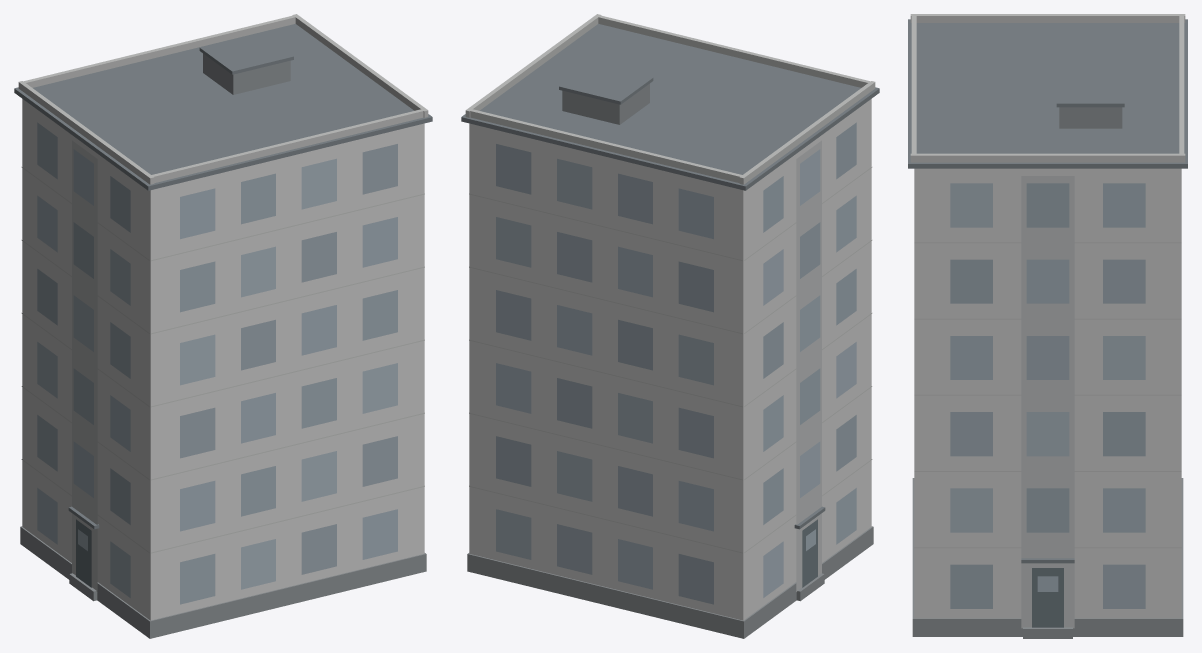
File: block_4.glb
3 views of the same model, side by side, from view 1: azimuth 30°, elevation 25°; view 2: azimuth 150°, elevation 25°; view 3: azimuth 270°, elevation 25° (orthographic). The views are drawn at different scales.
Parts seen in each view (by area): view 1: block_4; view 2: block_4; view 3: block_4.
Boxes of the visible parts, x1,y1,x2,y2 form: block_4: (14, 14, 432, 638); block_4: (461, 14, 879, 638); block_4: (908, 14, 1187, 638).
Bounding box in the file's own units: 10.9 × 17.57 × 8.9.
